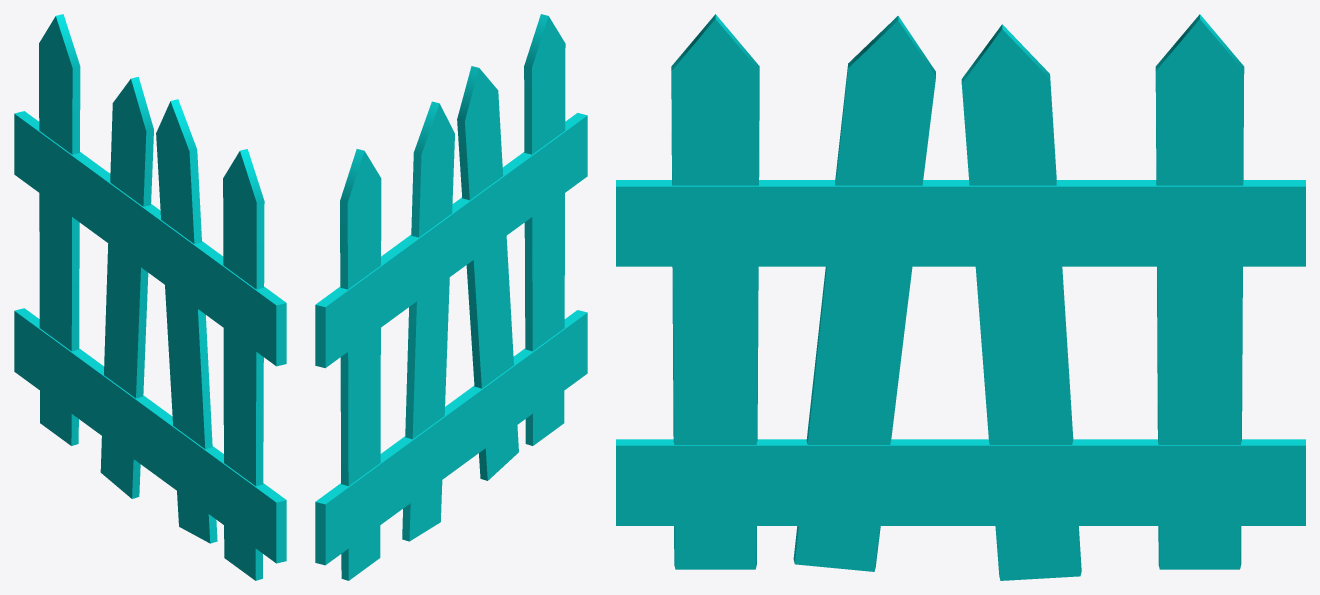
File: fence.fbx
3 views of the same model, side by side, from view 1: azimuth 30°, elevation 25°; view 2: azimuth 150°, elevation 25°; view 3: azimuth 270°, elevation 25° (orthographic). The views are drawn at different scales.
Parts seen in each view (by area): view 1: pasted__pCube1 (×3), pasted__pCube2, pCube2, pCube1; view 2: pasted__pCube1 (×3), pasted__pCube2, pCube2, pCube1; view 3: pasted__pCube1 (×3), pCube2, pasted__pCube2, pCube1.
Part boxes in pixels (<box>): pasted__pCube1 (×3): <box>100,76,264,580</box>; pasted__pCube2: <box>14,308,286,563</box>; pCube2: <box>14,111,286,366</box>; pCube1: <box>39,14,80,445</box>; pasted__pCube1 (×3): <box>402,14,565,541</box>; pasted__pCube2: <box>315,310,587,565</box>; pCube2: <box>315,113,587,368</box>; pCube1: <box>340,149,381,580</box>; pasted__pCube1 (×3): <box>671,14,1081,580</box>; pCube2: <box>616,180,1305,266</box>; pasted__pCube2: <box>616,439,1305,525</box>; pCube1: <box>1155,14,1244,569</box>.
Size of the model in its own units: 0.1765 by 7.01 by 7.8.
